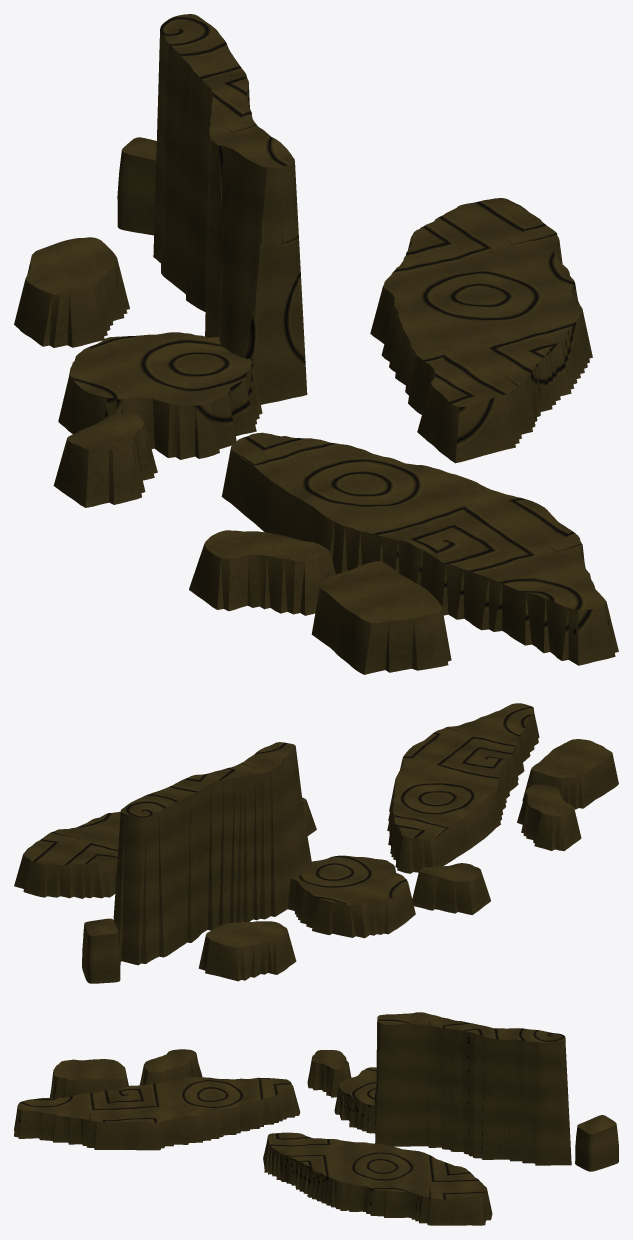
File: CREHenge23.glb
3 views of the same model, one above another, from view 1: azimuth 30°, elevation 25°; view 2: azimuth 150°, elevation 25°; view 3: azimuth 270°, elevation 25° (orthographic). The views are drawn at different scales.
Visible parts, largest first — view 1: CREHenge23_tops; view 2: CREHenge23_tops; view 3: CREHenge23_tops.
Boxes of the visible parts, x1=… form: CREHenge23_tops: x1=14, y1=14, x2=618, y2=674; CREHenge23_tops: x1=14, y1=703, x2=618, y2=983; CREHenge23_tops: x1=14, y1=1012, x2=618, y2=1225.
Size of the model in its own units: 5.07 by 1.9 by 8.47.
2 materials, 2 textured.
